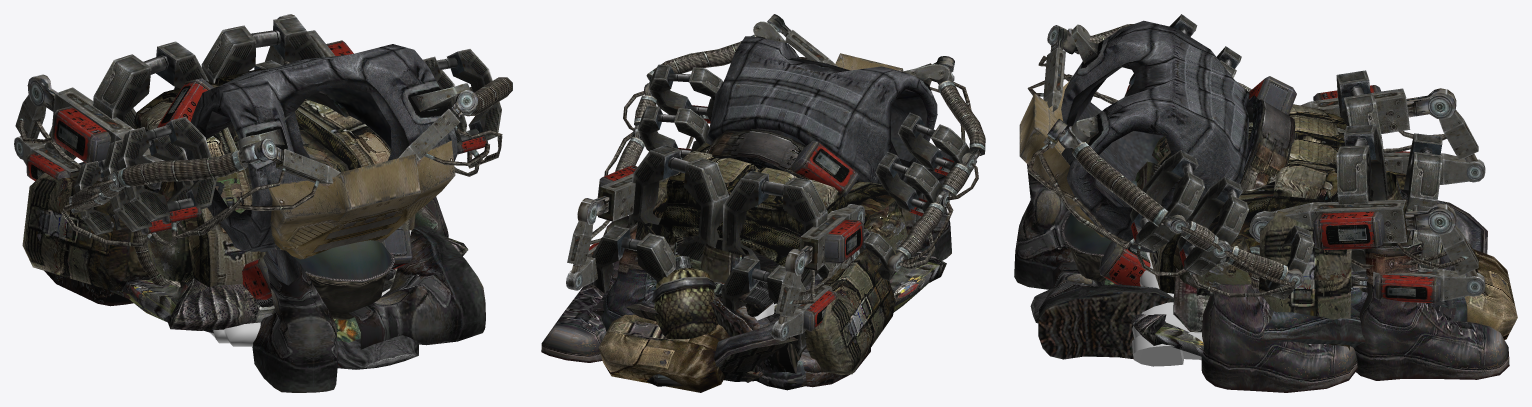
The model's file is SCOP Outfit.fbx.
The picture shows the model from 3 angles, left to right: view 1: azimuth 30°, elevation 25°; view 2: azimuth 150°, elevation 25°; view 3: azimuth 270°, elevation 25°; orthographic projection. The views are drawn at different scales.
Parts seen in each view (by area): view 1: exo_outfit, specops_outfit, scientific_outfit, dolg_heavy_outfit, dolg_outfit, scientific_outfit_glass, military_outfit, cs_heavy_outfit, svoboda_light_outfit; view 2: exo_outfit, specops_outfit, stalker_outfit, scientific_outfit, dolg_heavy_outfit, svoboda_light_outfit, dolg_outfit, military_outfit; view 3: exo_outfit, stalker_outfit, specops_outfit, scientific_outfit, dolg_heavy_outfit, svoboda_light_outfit, cs_heavy_outfit, scientific_outfit_glass, military_outfit.
Part boxes in pixels (box(x1,y1,x2,y2)): exo_outfit: box(14, 14, 512, 392); specops_outfit: box(134, 68, 415, 287); scientific_outfit: box(22, 172, 395, 319); dolg_heavy_outfit: box(37, 162, 468, 330); dolg_outfit: box(44, 177, 418, 369); scientific_outfit_glass: box(277, 240, 391, 279); military_outfit: box(110, 235, 462, 321); cs_heavy_outfit: box(210, 230, 411, 346); svoboda_light_outfit: box(333, 317, 360, 342); exo_outfit: box(566, 14, 985, 356); specops_outfit: box(639, 143, 907, 390); stalker_outfit: box(541, 216, 763, 392); scientific_outfit: box(653, 178, 895, 375); dolg_heavy_outfit: box(592, 250, 946, 381); svoboda_light_outfit: box(601, 248, 701, 331); dolg_outfit: box(709, 272, 870, 387); military_outfit: box(889, 260, 939, 312); exo_outfit: box(1014, 14, 1485, 359); stalker_outfit: box(1201, 239, 1517, 392); specops_outfit: box(1114, 104, 1505, 293); scientific_outfit: box(1060, 170, 1412, 350); dolg_heavy_outfit: box(1130, 200, 1487, 356); svoboda_light_outfit: box(1104, 257, 1467, 347); cs_heavy_outfit: box(1132, 252, 1202, 366); scientific_outfit_glass: box(1064, 181, 1136, 254); military_outfit: box(1155, 322, 1203, 345).
Bounding box in the file's own units: 1.28 × 0.7833 × 1.42.
